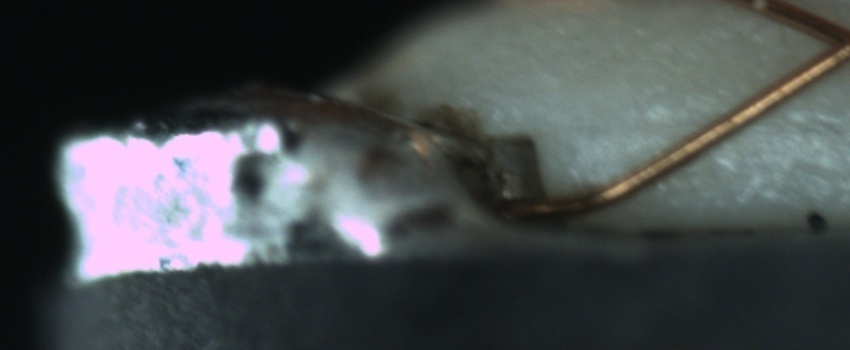CL: (801, 11, 850, 76)
DL: (577, 91, 836, 156)
